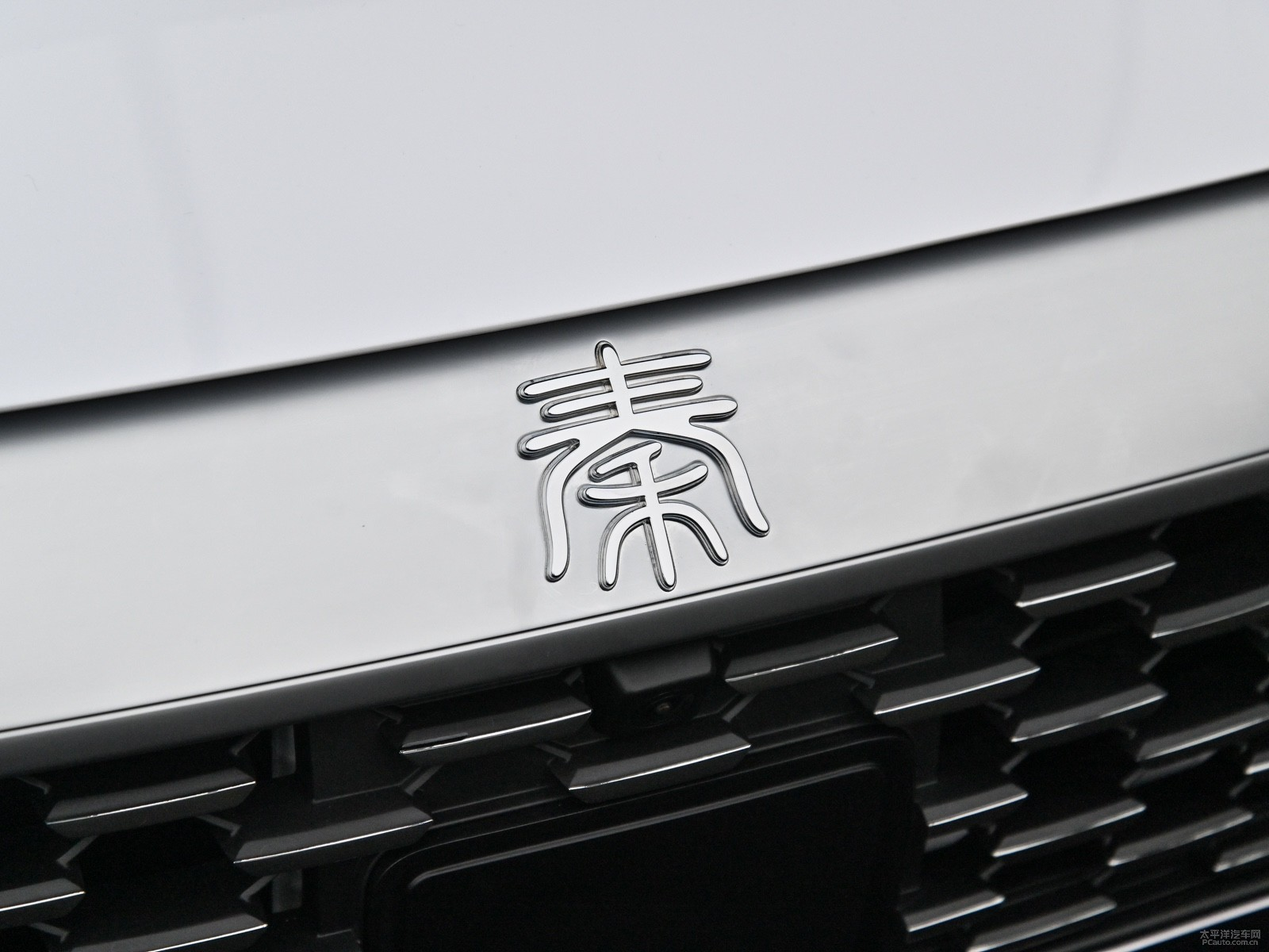BYD Qin: (517, 341, 769, 590)
